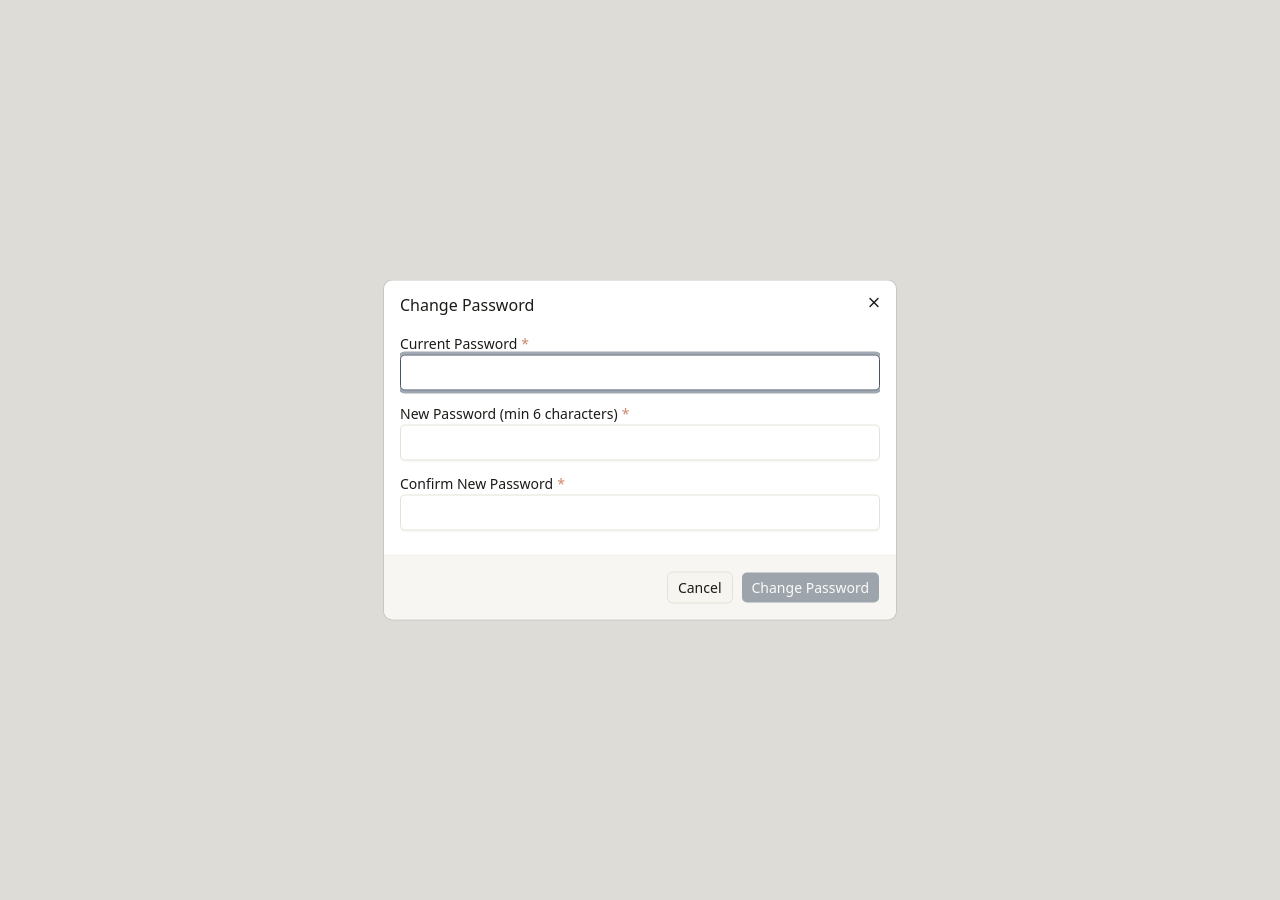
Test: ChangePasswordDialog › rejects a password under six characters
The width and height of the screenshot is (1280, 900).
Type "old" into the password field labelled "Current Password*" at (640, 372), box 400,354 -> 880,390
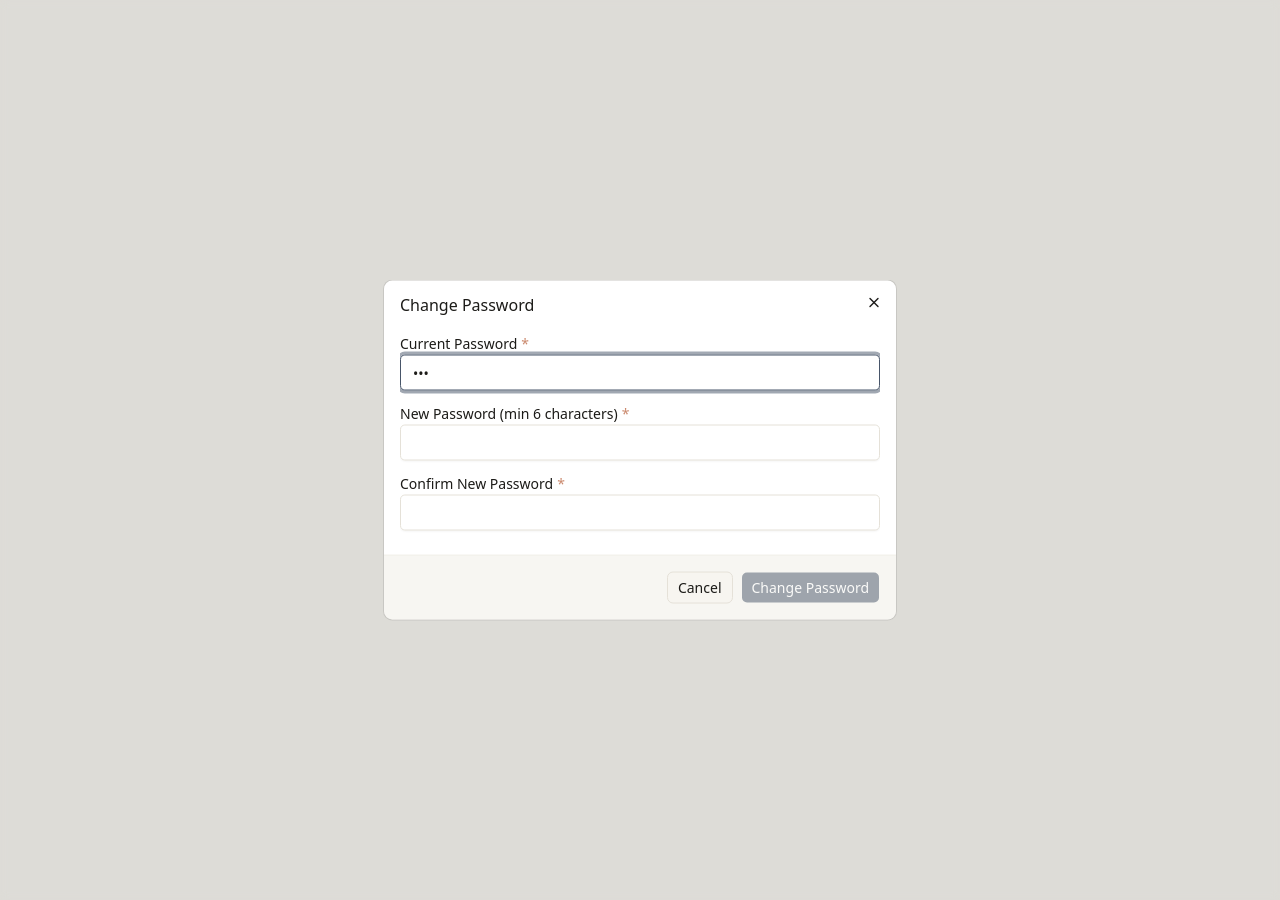
Type "short" into the password field labelled "New Password (min 6 characters)*" at (640, 442), box 400,424 -> 880,460
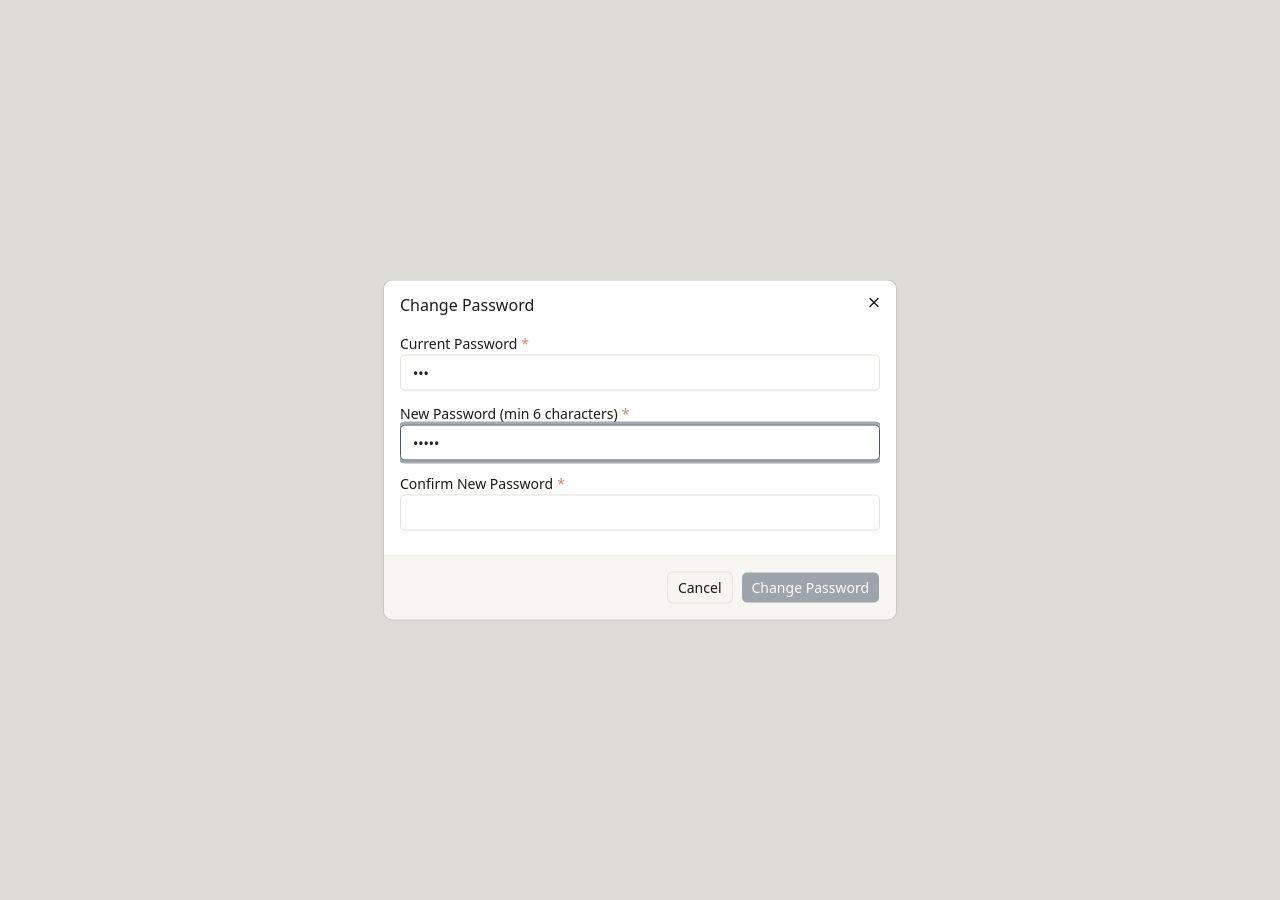
Type "short" into the password field labelled "Confirm New Password*" at (640, 512), box 400,494 -> 880,530
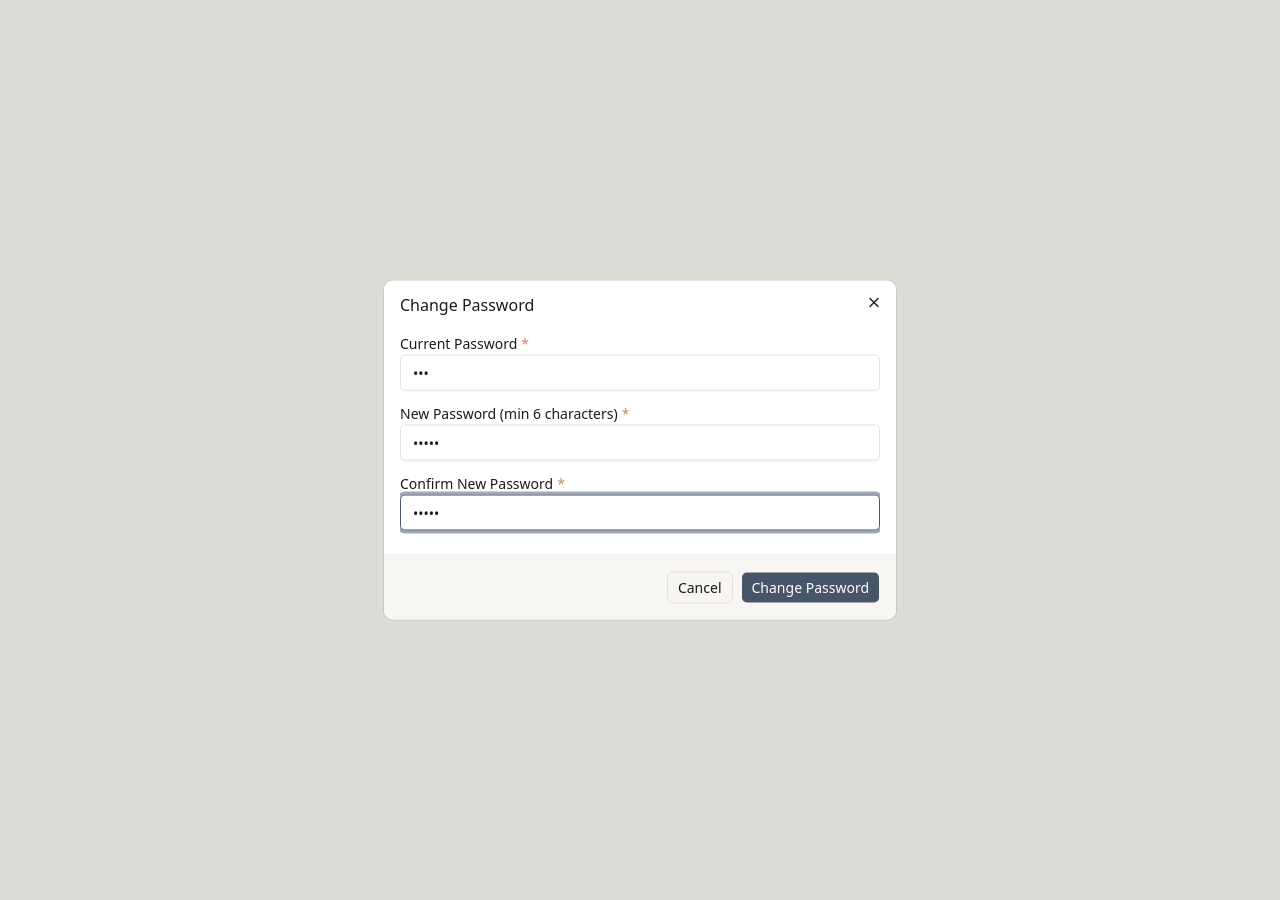
Click the button "Change Password" at (810, 588), box 740,572 -> 880,604
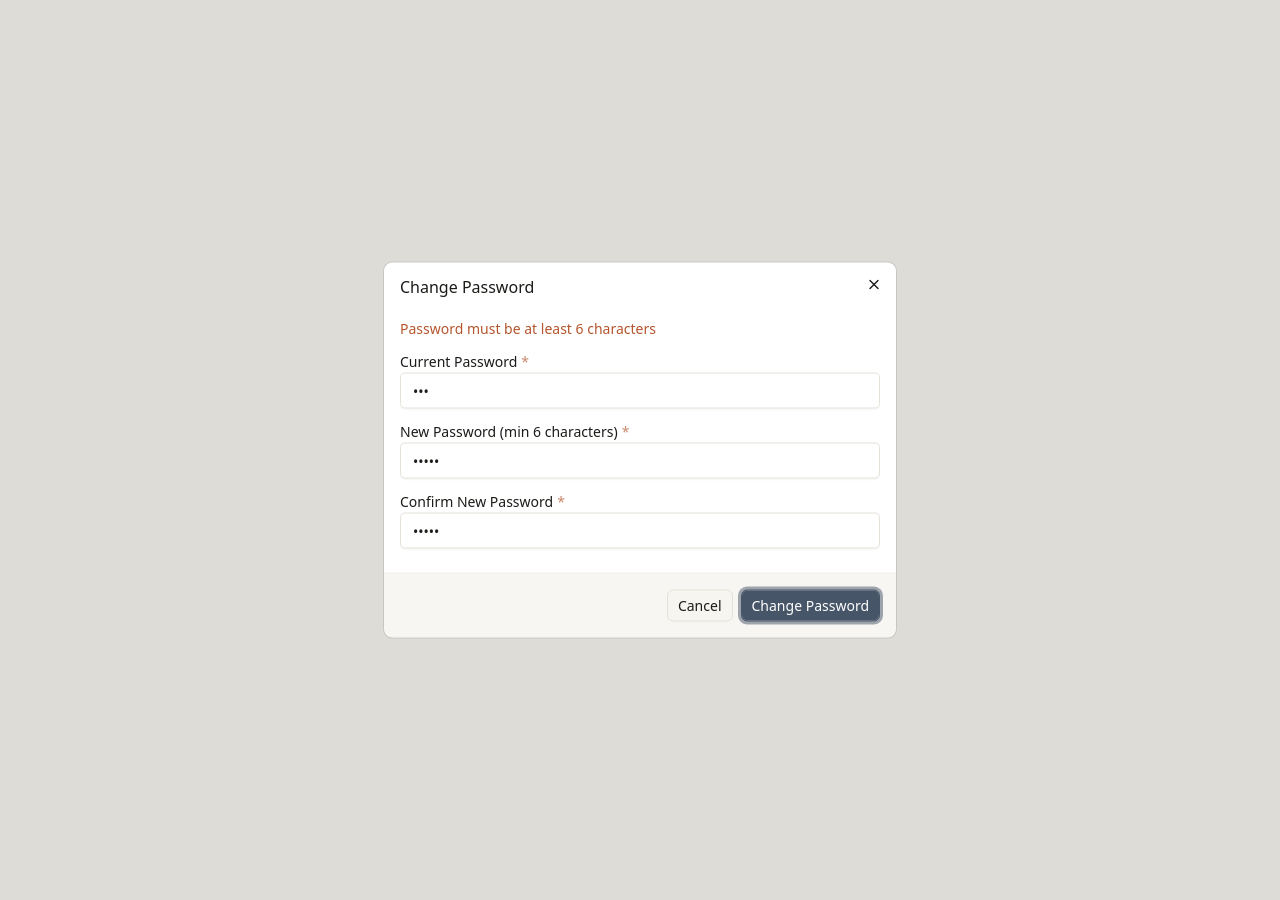
Check: the text "Password must be at least 6 characters" is shown, box 400,318 -> 656,338
